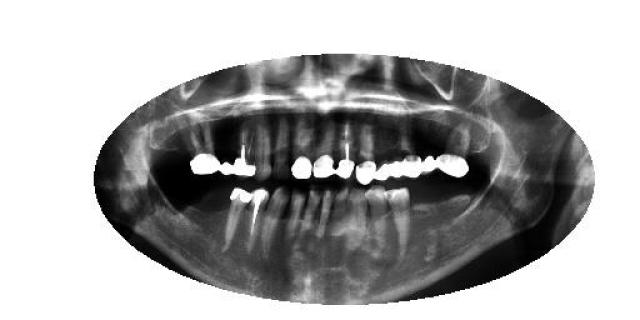Fillings: (218, 186, 252, 255), (176, 121, 220, 174), (436, 121, 472, 178), (311, 122, 335, 178), (356, 123, 376, 185), (292, 119, 312, 180), (401, 148, 421, 178), (387, 150, 405, 180), (375, 158, 390, 182), (421, 152, 435, 172), (218, 156, 232, 175)
Implant: (246, 186, 269, 250), (232, 120, 256, 178), (336, 120, 355, 179)
